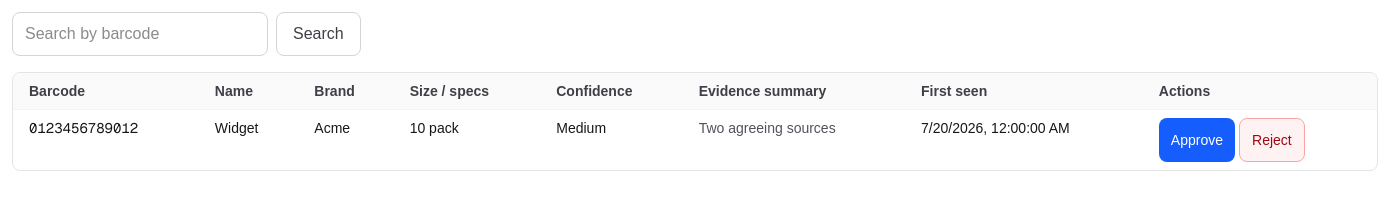
Test: CatalogReviewTable approve/reject actions › keeps the row and shows a row-level error when the action fails
Expected: the row with test id "catalog-review-row-gtin_1" is shown, 13,110 -> 1377,170
Click the button with test id "catalog-review-approve-gtin_1": (1197, 140) 1159,118 -> 1235,162
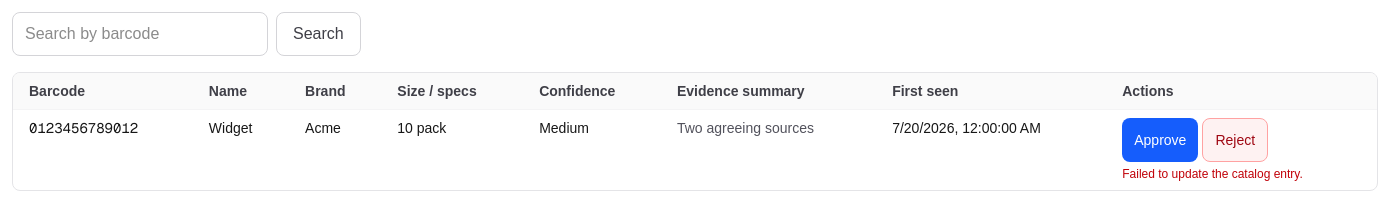
Expected: the row with test id "catalog-review-row-gtin_1" is shown, 13,110 -> 1377,190
Expected: the text "Failed to update the catalog entry." is shown, 1122,167 -> 1303,181
